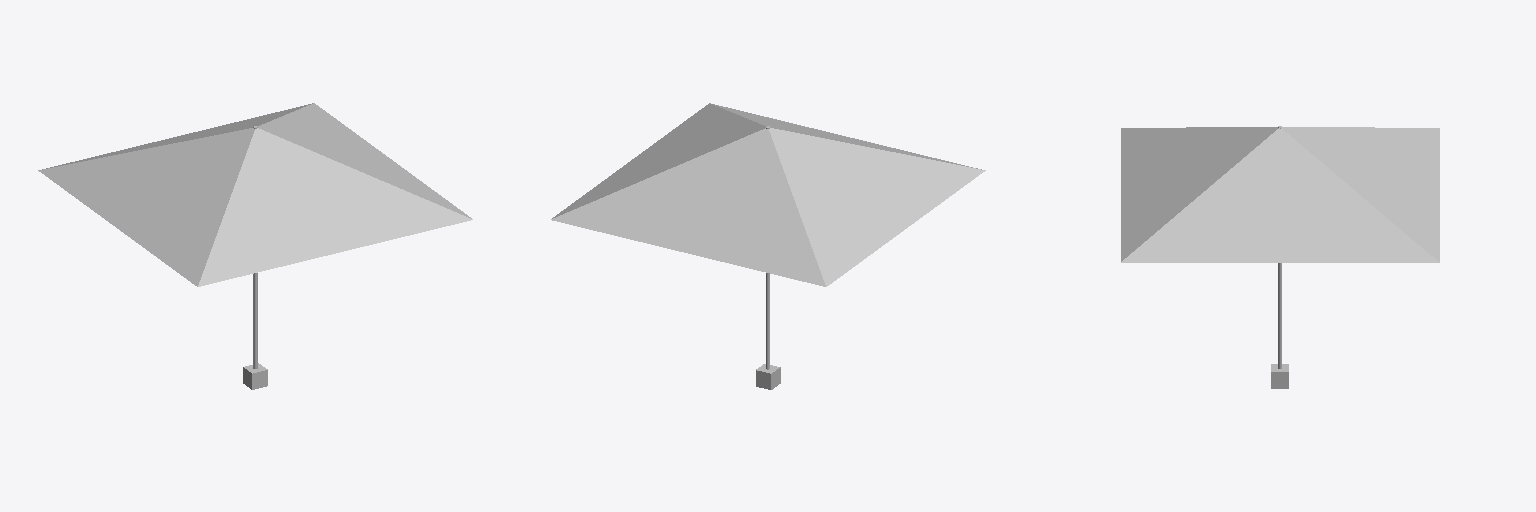
The model's file is omb_o.obj.
3 views of the same model, side by side, from view 1: azimuth 30°, elevation 25°; view 2: azimuth 150°, elevation 25°; view 3: azimuth 270°, elevation 25° (orthographic).
Visible parts, largest first — view 1: Sphere_Sphere.001; view 2: Sphere_Sphere.001; view 3: Sphere_Sphere.001.
Part boxes in pixels (bbox=[...]): Sphere_Sphere.001: bbox=[38, 103, 472, 389]; Sphere_Sphere.001: bbox=[551, 103, 985, 389]; Sphere_Sphere.001: bbox=[1121, 126, 1439, 388].
Size of the model in its own units: 6.4 by 5.71 by 6.4.